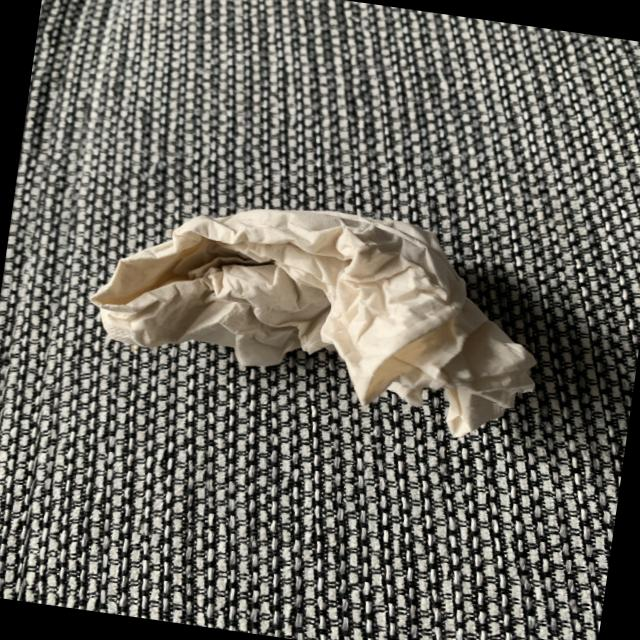organic waste: (60, 171, 558, 443)
